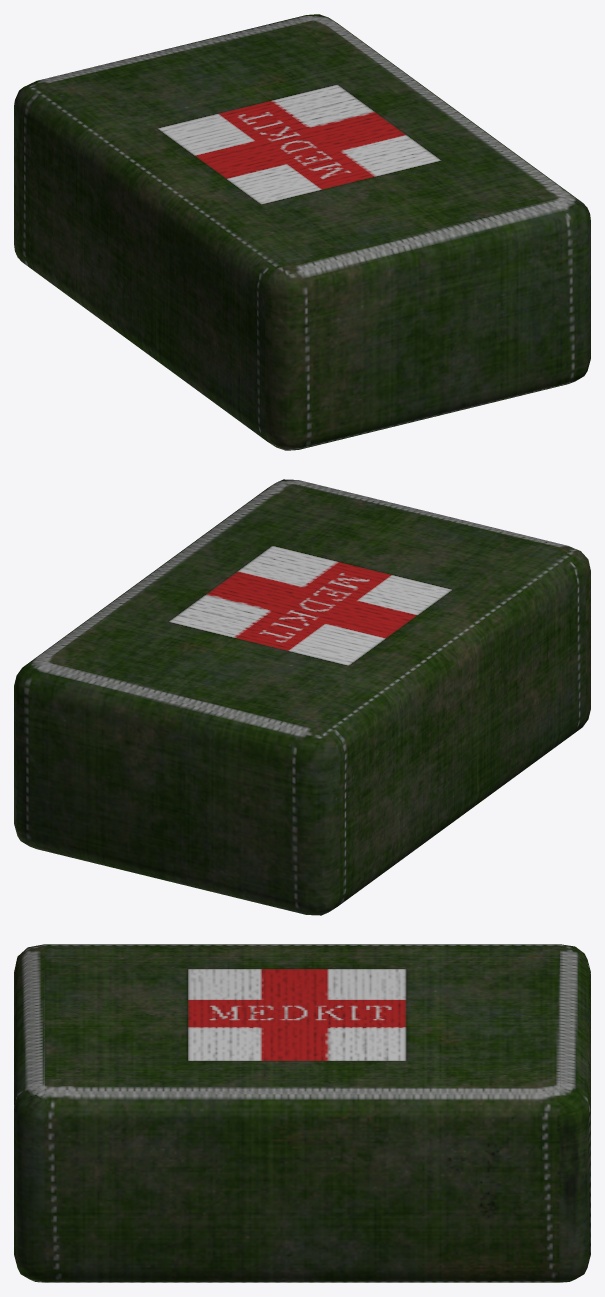
Rendered from MedKit.FBX.
3 views of the same model, one above another, from view 1: azimuth 30°, elevation 25°; view 2: azimuth 150°, elevation 25°; view 3: azimuth 270°, elevation 25° (orthographic). The views are drawn at different scales.
Visible parts, largest first — view 1: Box001; view 2: Box001; view 3: Box001.
Part boxes in pixels (x1=…): Box001: x1=14, y1=14, x2=590, y2=450; Box001: x1=14, y1=479, x2=590, y2=915; Box001: x1=14, y1=944, x2=590, y2=1282.
Bounding box in the file's own units: 40.21 × 59.74 × 21.85.
Materials: 1 (1 with a texture image).
